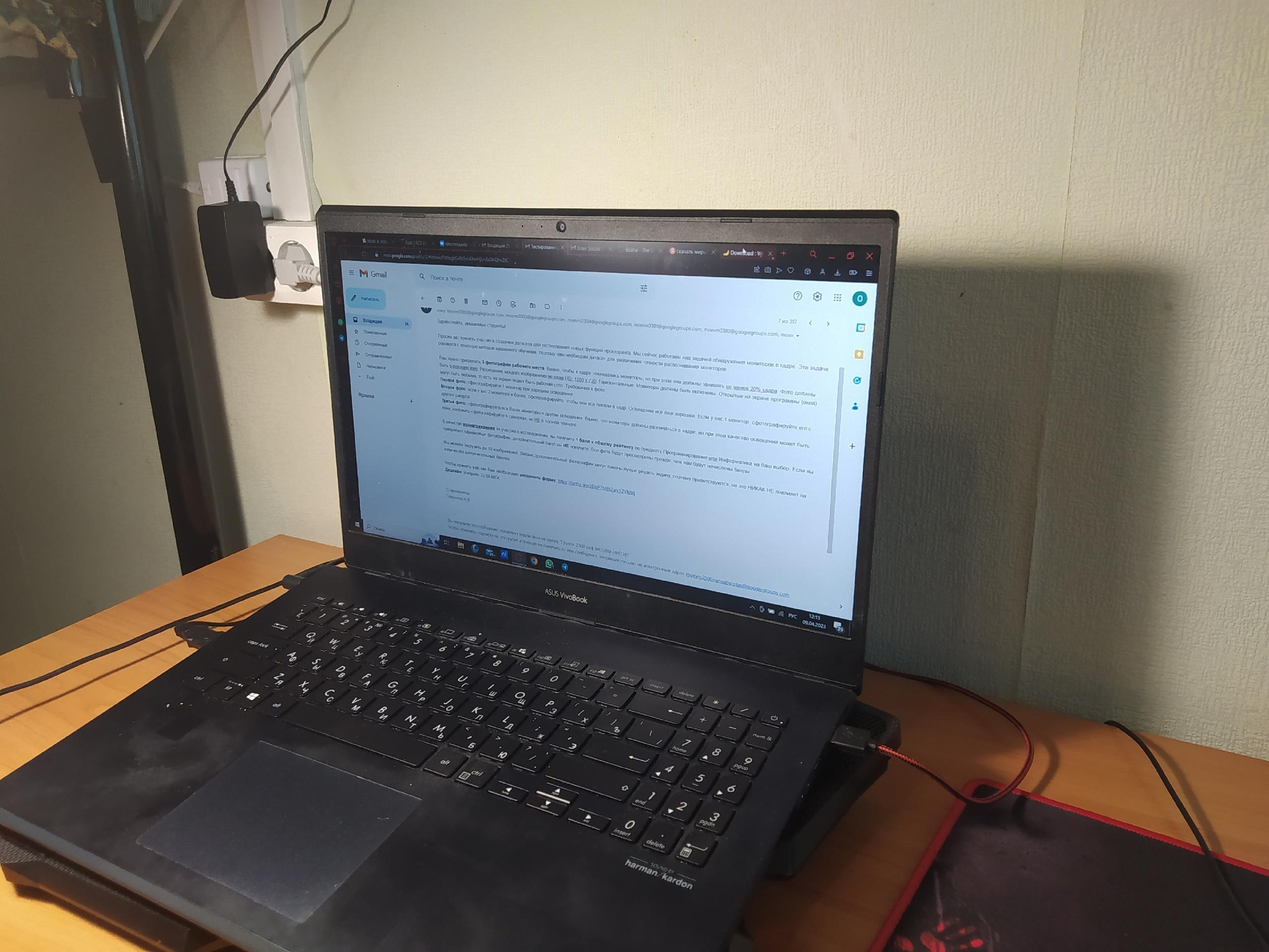monitor: (312, 197, 907, 688)
